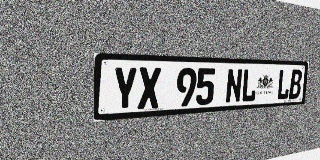5: (196, 68, 215, 105)
9: (176, 68, 197, 107)
B: (288, 70, 303, 99)
L: (241, 69, 258, 102), (276, 69, 291, 100)
N: (225, 68, 243, 103)
X: (138, 67, 161, 109)
Y: (112, 67, 138, 111)
